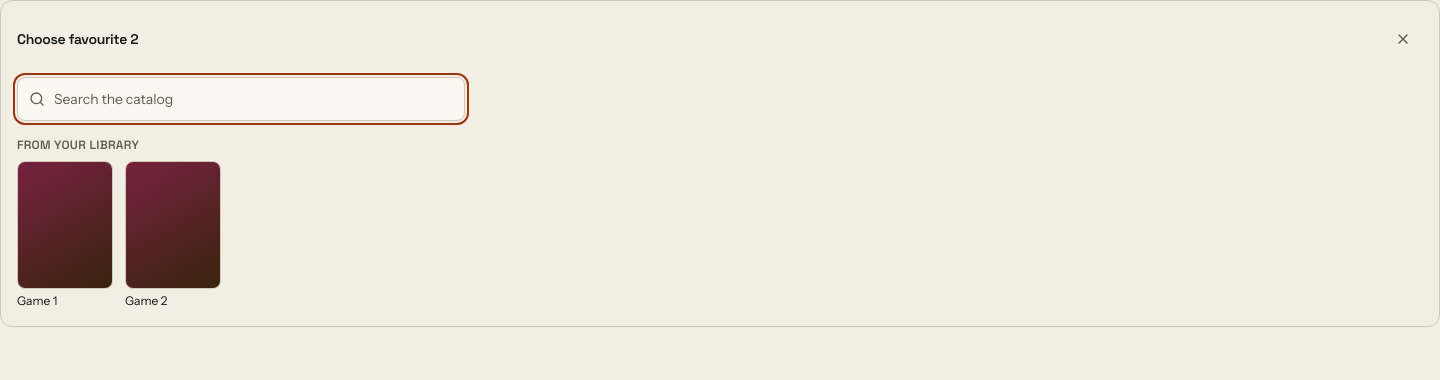
Test: FavouritePicker › says so when nothing matches
The image size is (1440, 380).
Type "qqqq" into the search field.
click(241, 99); type("qqqq")  # box [17,77,465,121]
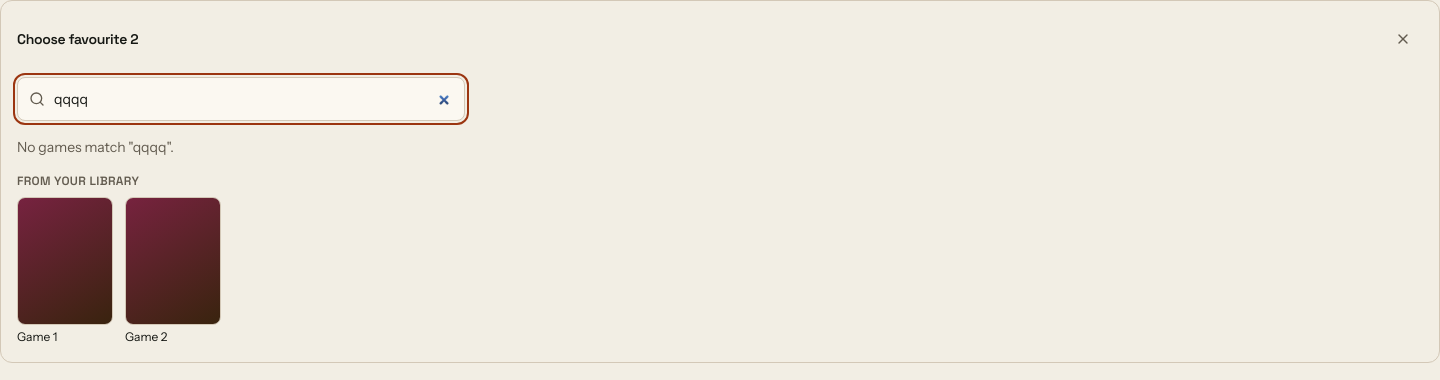
Result: the text "No games match \"qqqq\"." is shown at [17,138,174,156]
